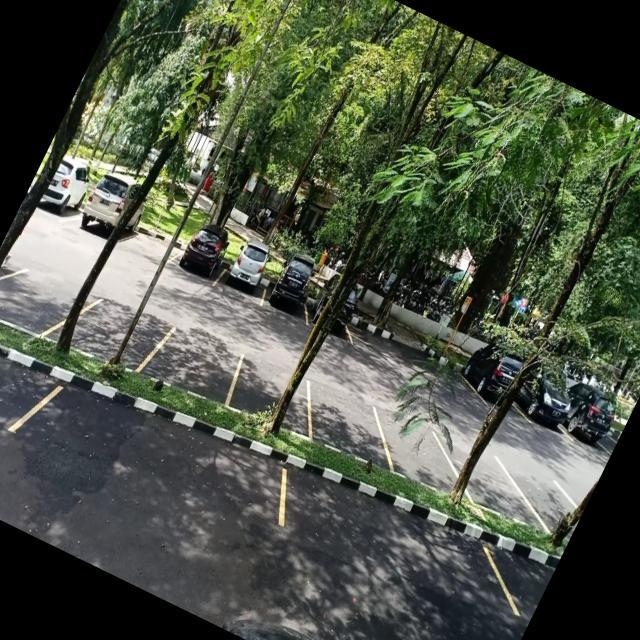empty: (19, 358, 293, 548), (262, 455, 535, 640), (144, 314, 247, 411), (64, 285, 169, 380), (366, 405, 468, 497), (296, 380, 394, 468), (440, 443, 540, 526), (223, 351, 320, 436), (0, 249, 83, 347), (122, 213, 183, 270)
occupied: (67, 175, 148, 252), (258, 256, 324, 326), (216, 237, 282, 306), (168, 227, 232, 290)
